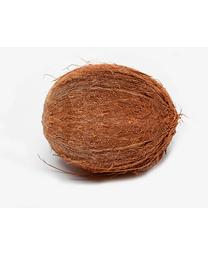coconut: (41, 64, 178, 175)
